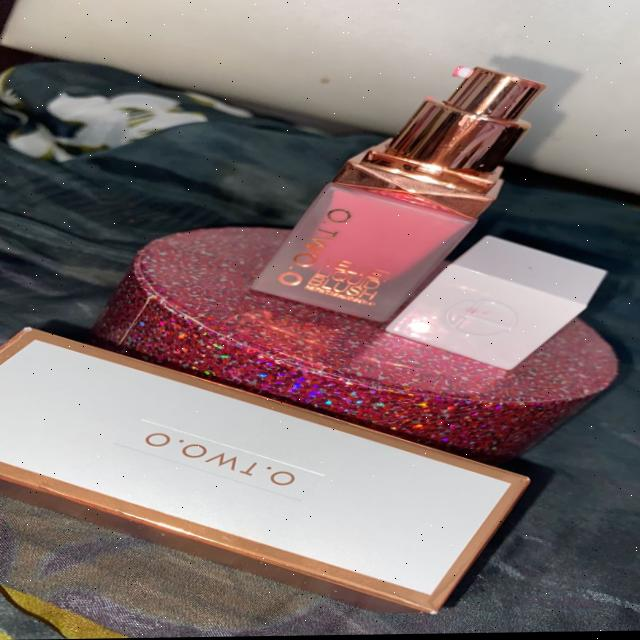serum: (258, 54, 570, 310)
